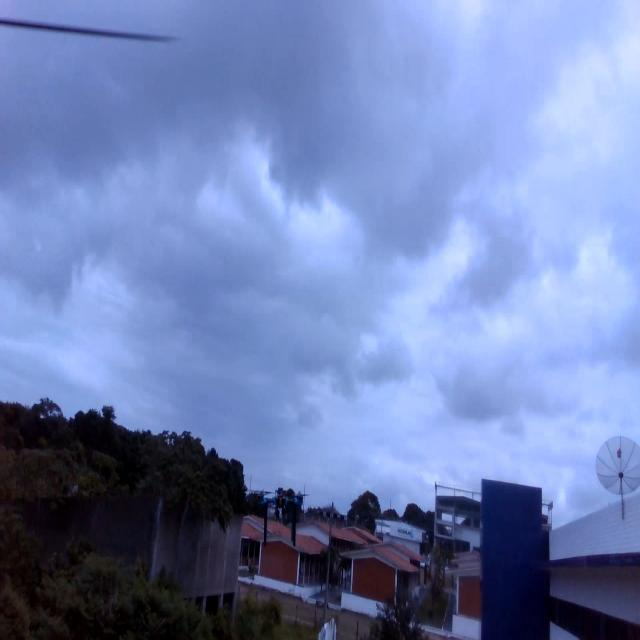-uav-: (242, 467, 312, 551)
